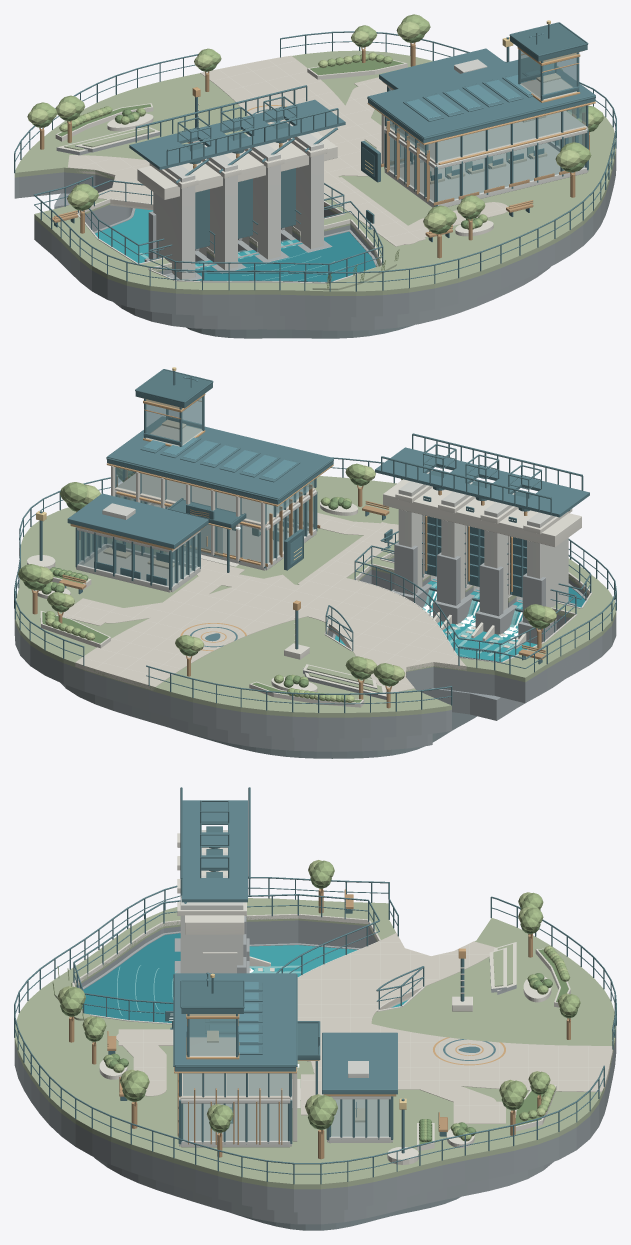
File: flood-control-g.glb
3 views of the same model, one above another, from view 1: azimuth 30°, elevation 25°; view 2: azimuth 150°, elevation 25°; view 3: azimuth 270°, elevation 25° (orthographic). The views are drawn at different scales.
Parts seen in each view (by area): view 1: Terrain_Foundation_Components__green, Terrain_Foundation_Components__rock, Terrain_Foundation_Components__floor, Triple_Sluice_Mechanics_Components__concrete, Command_Centre_Components__steel_lite, Walkways_Railings_Components__steel, Command_Centre_Components__glass2, Command_Centre_Components__floor, Triple_Sluice_Mechanics_Components__steel_lite, Command_Centre_Components__steel, Triple_Sluice_Mechanics_Components__steel, Hydraulic_Water_Components__water_upper (+28 smaller); view 2: Terrain_Foundation_Components__green, Terrain_Foundation_Components__floor, Terrain_Foundation_Components__rock, Command_Centre_Components__steel_lite, Walkways_Railings_Components__steel, Command_Centre_Components__steel, Command_Centre_Components__glass2, Triple_Sluice_Mechanics_Components__concrete, Triple_Sluice_Mechanics_Components__steel_lite, Triple_Sluice_Mechanics_Components__concrete_shadow, Triple_Sluice_Mechanics_Components__concrete2, Command_Centre_Components__floor (+26 smaller); view 3: Terrain_Foundation_Components__green, Terrain_Foundation_Components__floor, Terrain_Foundation_Components__rock, Command_Centre_Components__steel_lite, Walkways_Railings_Components__steel, Command_Centre_Components__floor, Command_Centre_Components__glass, Riparian_Landscape_Components__leaf2, Triple_Sluice_Mechanics_Components__steel_lite, Command_Centre_Components__steel, Hydraulic_Water_Components__water_upper, Triple_Sluice_Mechanics_Components__concrete (+20 smaller).
Boxes of the visible parts, left/top/right/bottom form: Terrain_Foundation_Components__green: left=14, top=50, right=616, bottom=295; Terrain_Foundation_Components__rock: left=14, top=150, right=616, bottom=330; Terrain_Foundation_Components__floor: left=67, top=55, right=507, bottom=246; Triple_Sluice_Mechanics_Components__concrete: left=153, top=124, right=323, bottom=279; Command_Centre_Components__steel_lite: left=368, top=48, right=595, bottom=143; Walkways_Railings_Components__steel: left=14, top=31, right=616, bottom=291; Command_Centre_Components__glass2: left=362, top=106, right=586, bottom=201; Command_Centre_Components__floor: left=386, top=111, right=587, bottom=201; Triple_Sluice_Mechanics_Components__steel_lite: left=129, top=99, right=345, bottom=183; Command_Centre_Components__steel: left=367, top=23, right=595, bottom=206; Triple_Sluice_Mechanics_Components__steel: left=135, top=85, right=338, bottom=261; Hydraulic_Water_Components__water_upper: left=167, top=231, right=375, bottom=281; Terrain_Foundation_Components__green: left=15, top=476, right=616, bottom=717; Terrain_Foundation_Components__floor: left=62, top=508, right=466, bottom=692; Terrain_Foundation_Components__rock: left=14, top=557, right=616, bottom=751; Command_Centre_Components__steel_lite: left=67, top=416, right=333, bottom=585; Walkways_Railings_Components__steel: left=14, top=444, right=616, bottom=713; Command_Centre_Components__steel: left=75, top=370, right=333, bottom=590; Command_Centre_Components__glass2: left=78, top=467, right=313, bottom=586; Triple_Sluice_Mechanics_Components__concrete: left=398, top=470, right=568, bottom=610; Triple_Sluice_Mechanics_Components__steel_lite: left=375, top=447, right=589, bottom=597; Triple_Sluice_Mechanics_Components__concrete_shadow: left=392, top=542, right=575, bottom=644; Triple_Sluice_Mechanics_Components__concrete2: left=383, top=479, right=581, bottom=648; Command_Centre_Components__floor: left=83, top=473, right=314, bottom=585; Terrain_Foundation_Components__green: left=14, top=898, right=616, bottom=1189; Terrain_Foundation_Components__floor: left=116, top=932, right=612, bottom=1123; Terrain_Foundation_Components__rock: left=14, top=920, right=616, bottom=1224; Command_Centre_Components__steel_lite: left=174, top=973, right=397, bottom=1094; Walkways_Railings_Components__steel: left=14, top=800, right=616, bottom=1184; Command_Centre_Components__floor: left=180, top=1073, right=388, bottom=1140; Command_Centre_Components__glass: left=183, top=1073, right=388, bottom=1140; Riparian_Landscape_Components__leaf2: left=53, top=860, right=580, bottom=1141; Triple_Sluice_Mechanics_Components__steel_lite: left=181, top=800, right=247, bottom=903; Command_Centre_Components__steel: left=173, top=974, right=393, bottom=1144; Hydraulic_Water_Components__water_upper: left=82, top=933, right=180, bottom=1022; Triple_Sluice_Mechanics_Components__concrete: left=180, top=830, right=243, bottom=973.
Size of the model in its own units: 38.89 by 16.72 by 34.55.
